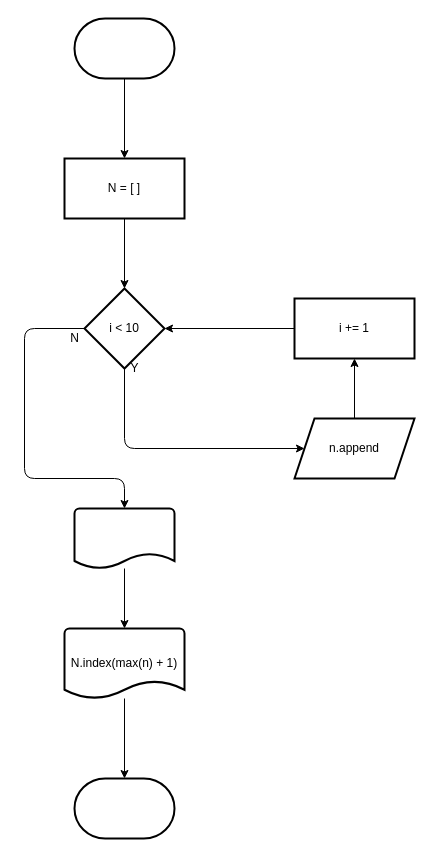
Image size: 433x856. Some labels were removed from this diagram. Each missing label, with the box of its shape:
max(N): (73, 507, 175, 569)
start: (73, 17, 175, 79)
